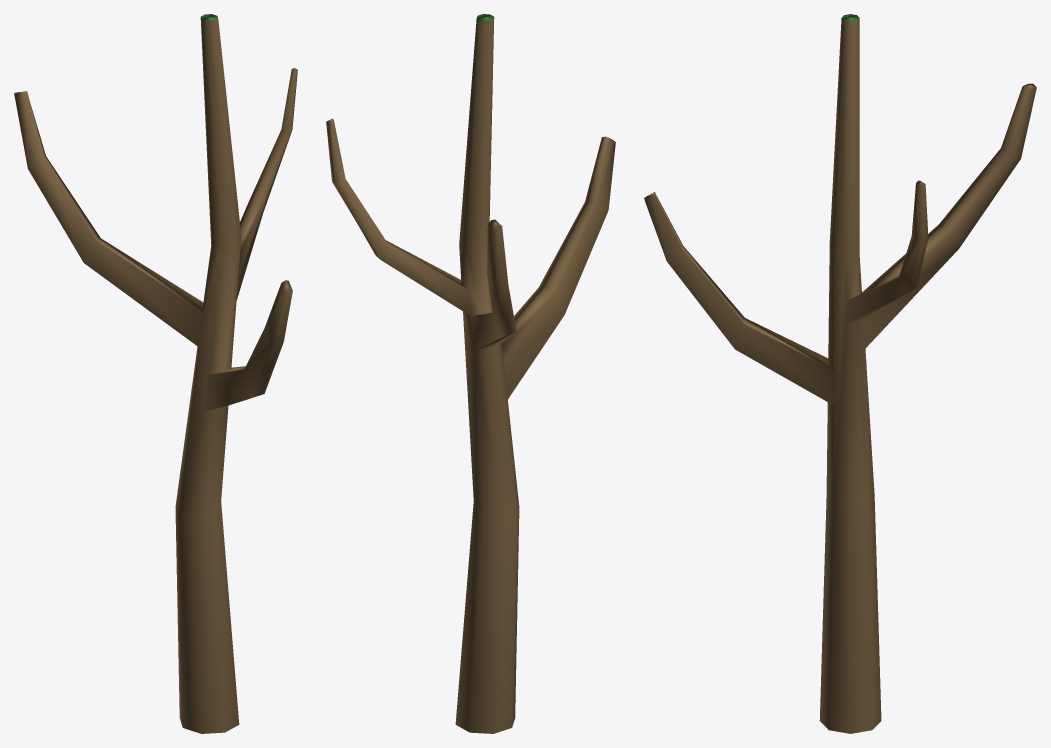
Rendered from tree_branches_only.glb.
3 renders of one model, left to right at view 1: azimuth 30°, elevation 25°; view 2: azimuth 150°, elevation 25°; view 3: azimuth 270°, elevation 25°, orthographic.
Visible parts, largest first — view 1: Cylinder; view 2: Cylinder; view 3: Cylinder.
Boxes of the visible parts, x1,y1,x2,y2 form: Cylinder: (14,14,297,733); Cylinder: (326,14,615,733); Cylinder: (644,14,1036,733).
Bounding box in the file's own units: 1.08 × 3.16 × 1.6.
